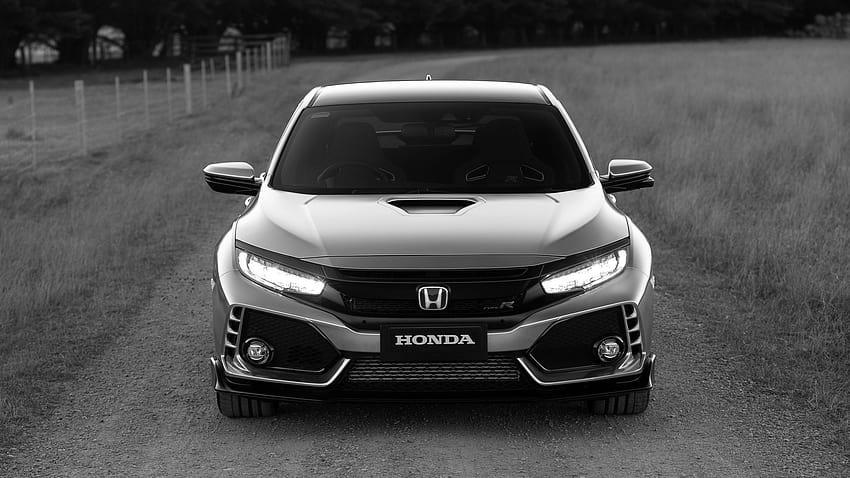Car hood: (228, 180, 630, 276)
Front bumper: (205, 268, 652, 400)
Headlight - -L-: (539, 235, 630, 294)
Headlight - -R-: (232, 239, 327, 303)
Side mirror - -L-: (599, 157, 656, 193)
Side mirror - -R-: (203, 159, 268, 201)
